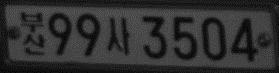0: (200, 16, 227, 61)
3: (142, 15, 167, 59)
4: (230, 18, 258, 61)
5: (172, 15, 198, 60)
9: (47, 11, 73, 56), (75, 13, 101, 56)
부산_V: (20, 11, 46, 56)
사: (106, 16, 131, 56)
